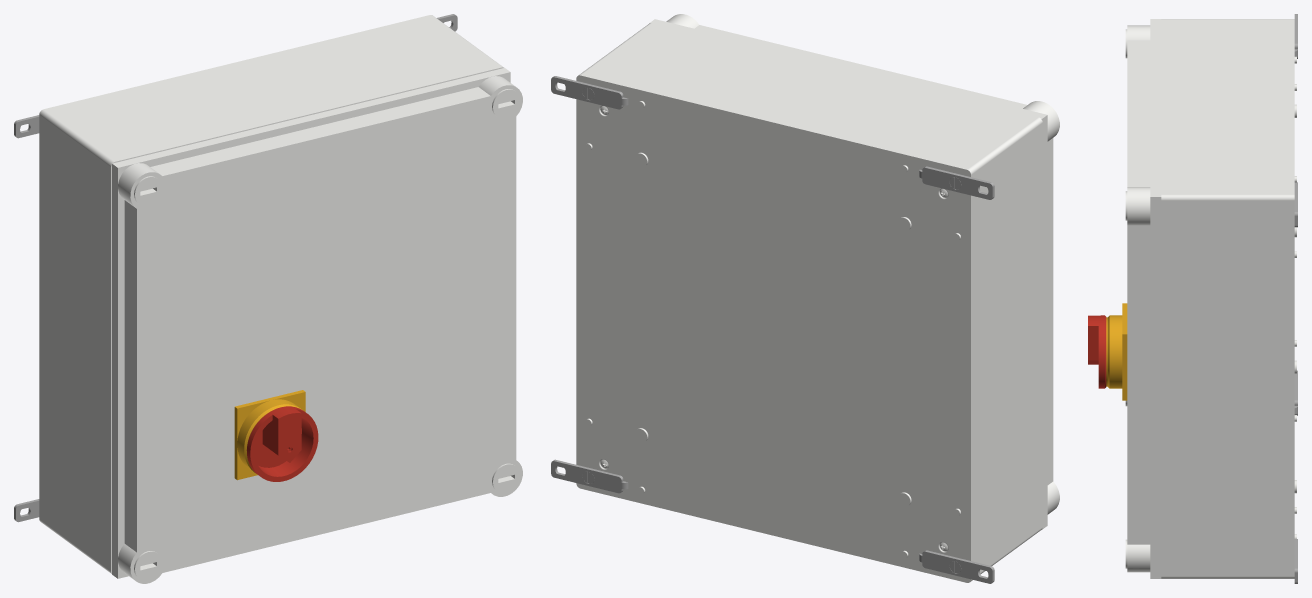
Rendered from core_electircal_box.obj.
3 views of the same model, side by side, from view 1: azimuth 30°, elevation 25°; view 2: azimuth 150°, elevation 25°; view 3: azimuth 270°, elevation 25° (orthographic). The views are drawn at different scales.
Parts seen in each view (by area): view 1: Körper1:1, Körper1, Körper1:29, Körper1:17; view 2: Körper1, Körper1:1, Körper1:3, Körper1:5, Körper1:2, Körper1:4; view 3: Körper1, Körper1:1, Körper1:17, Körper1:29.
Part boxes in pixels (bbox=[...]): Körper1:1: bbox=[112, 68, 522, 583]; Körper1: bbox=[39, 15, 503, 573]; Körper1:29: bbox=[246, 406, 318, 481]; Körper1:17: bbox=[234, 390, 305, 480]; Körper1: bbox=[576, 23, 1042, 582]; Körper1:1: bbox=[649, 14, 1059, 529]; Körper1:3: bbox=[551, 459, 628, 493]; Körper1:5: bbox=[551, 76, 628, 109]; Körper1:2: bbox=[919, 550, 994, 583]; Körper1:4: bbox=[919, 166, 994, 199]; Körper1: bbox=[1161, 19, 1296, 578]; Körper1:1: bbox=[1125, 19, 1161, 578]; Körper1:17: bbox=[1106, 303, 1127, 400]; Körper1:29: bbox=[1088, 315, 1106, 388].
Bounding box in the file's own units: 41.95 × 37.5 × 18.59.
